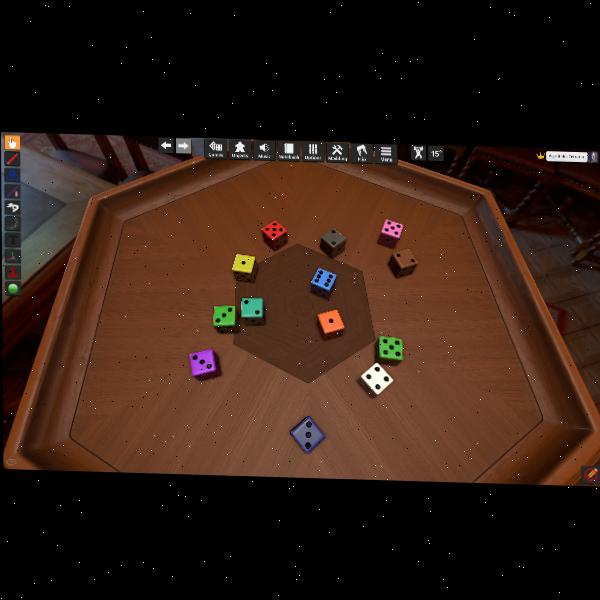d6: (358, 362, 393, 398), (297, 417, 326, 454), (190, 348, 220, 380), (389, 247, 417, 278), (374, 336, 403, 365), (316, 309, 342, 340), (378, 219, 404, 250), (310, 267, 336, 298), (261, 219, 286, 251), (319, 227, 344, 259), (231, 253, 257, 283), (213, 304, 238, 333), (240, 297, 264, 326)
